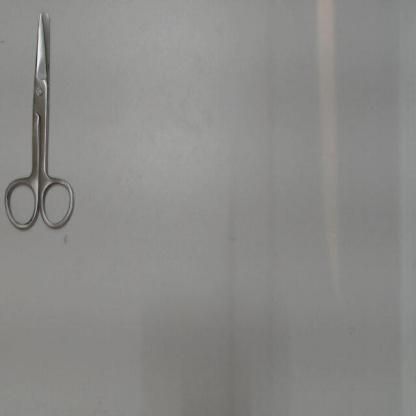Dressing Scissors: (1, 3, 85, 242)
